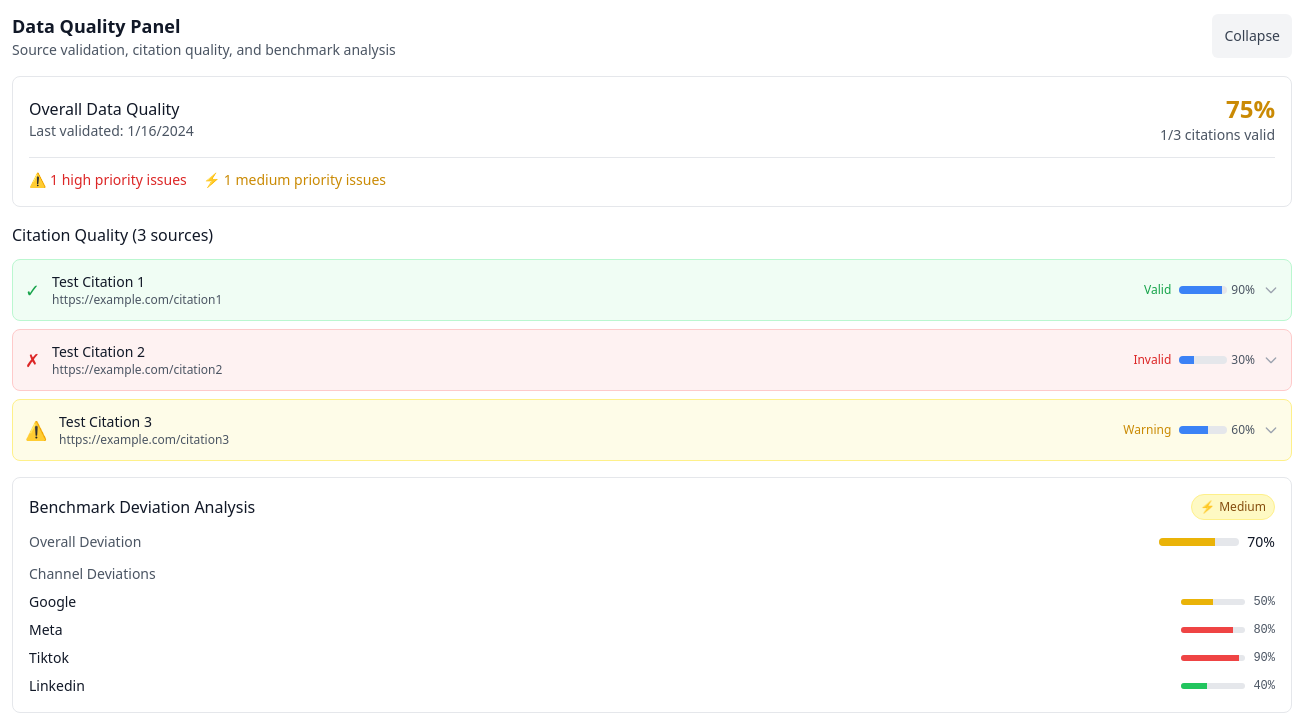
Test: DataQualityPanel › Citation Quality › expands citation details when clicked
The width and height of the screenshot is (1304, 718).
Click the button "Test Citation 1". click: (99, 282)
box: [25,272,1279,308]
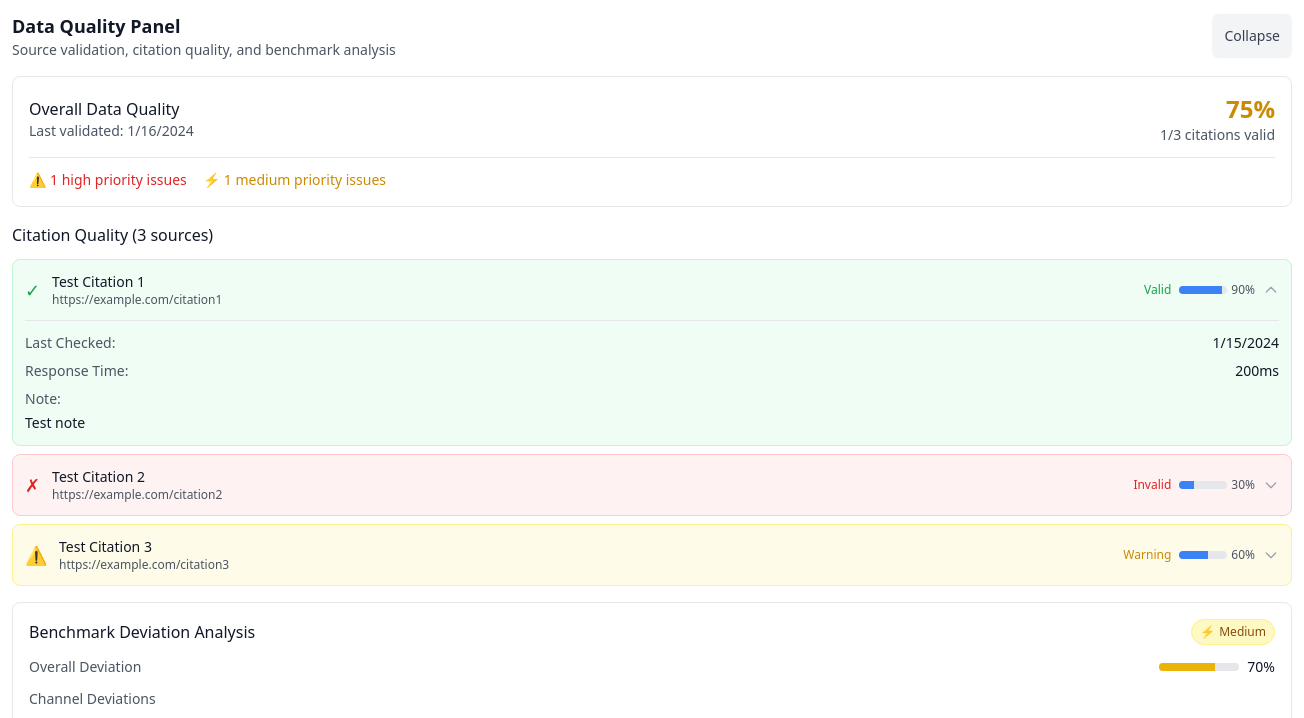
Now the text "Last Checked:" is shown, box [25,333,116,353]
Now the text "Response Time:" is shown, box [25,361,128,381]
Now the text "200ms" is shown, box [1235,361,1279,381]
